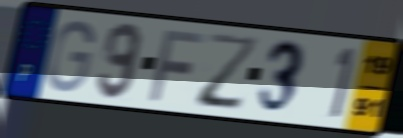1: (329, 45, 358, 122)
3: (255, 37, 311, 118)
9: (96, 20, 144, 102)
F: (146, 27, 209, 104)
G: (45, 17, 97, 94)
Z: (195, 31, 262, 114)
